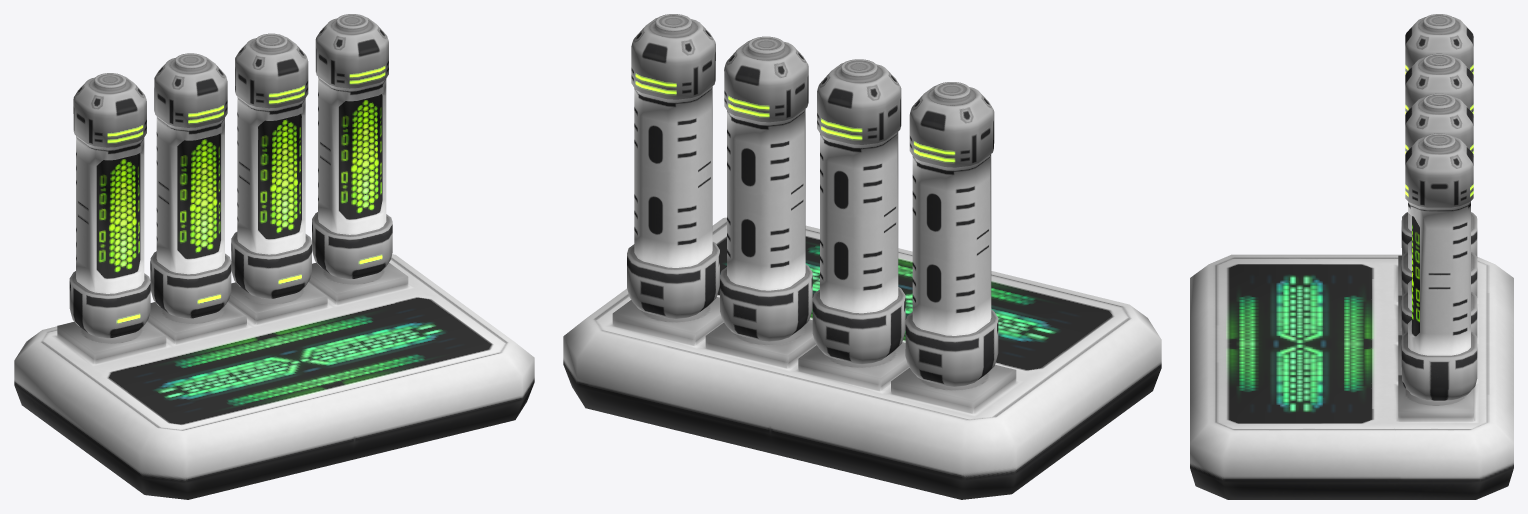
The model's file is LabTubes02_2.FBX.
3 renders of one model, left to right at view 1: azimuth 30°, elevation 25°; view 2: azimuth 150°, elevation 25°; view 3: azimuth 270°, elevation 25°, orthographic. The views are drawn at different scales.
Visible parts, largest first — view 1: LabTubes02_2; view 2: LabTubes02_2; view 3: LabTubes02_2.
Part boxes in pixels (x1,y1,x2,y2): LabTubes02_2: (14,14,534,499); LabTubes02_2: (563,14,1161,499); LabTubes02_2: (1190,14,1513,499).
Size of what is drawn, in the model's own units: 0.5372 by 0.4196 by 0.3788.
